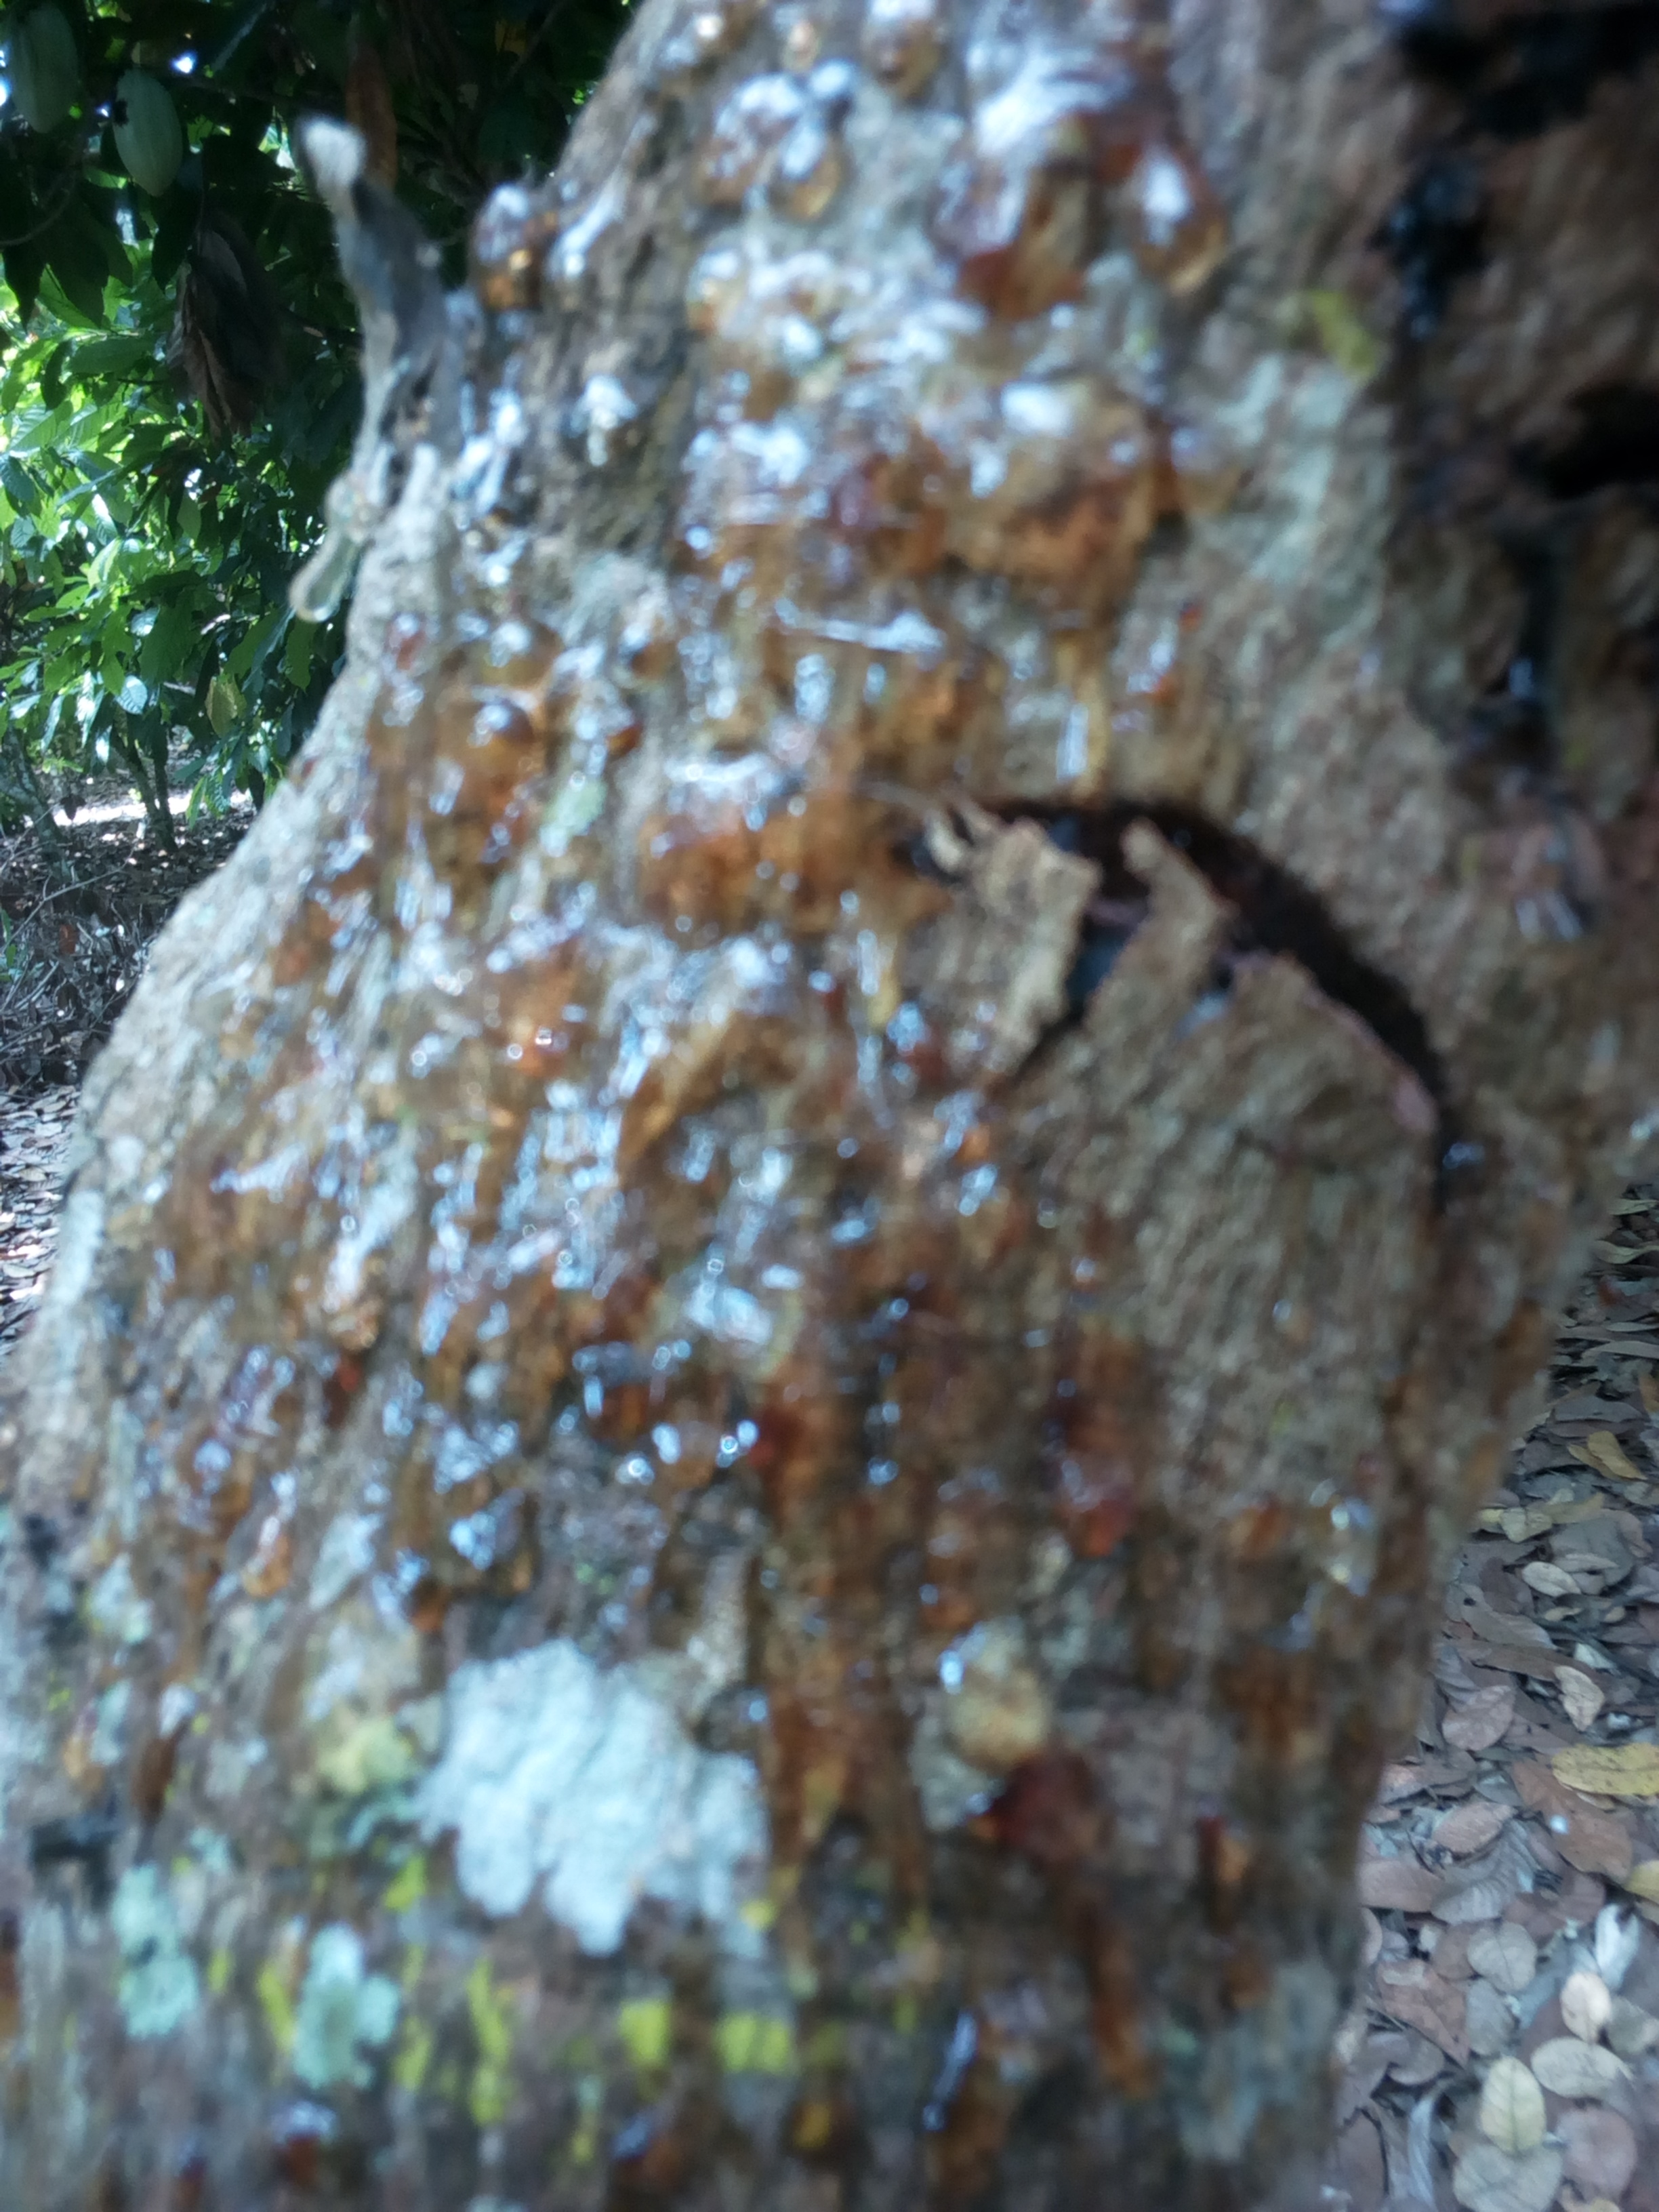Gommose: (84, 12, 1331, 2212)
